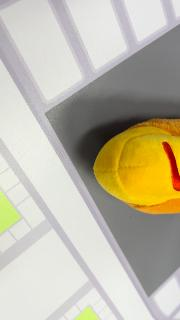hotdog: (92, 118, 180, 215)
